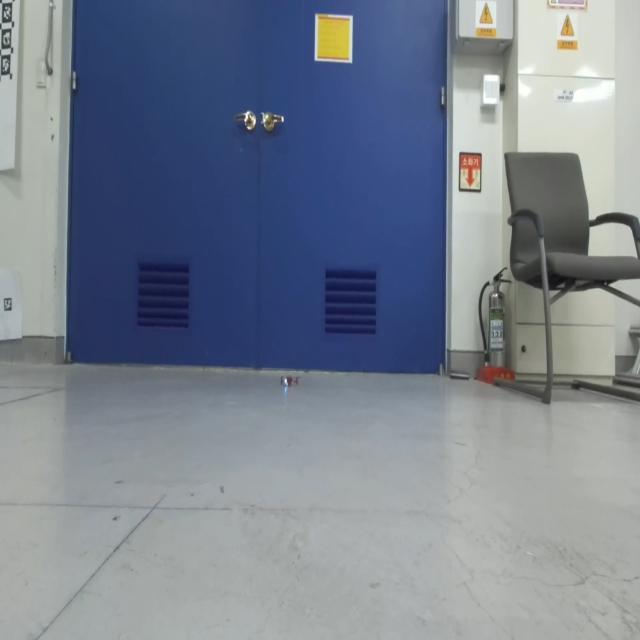crazyflie: (274, 368, 300, 396)
